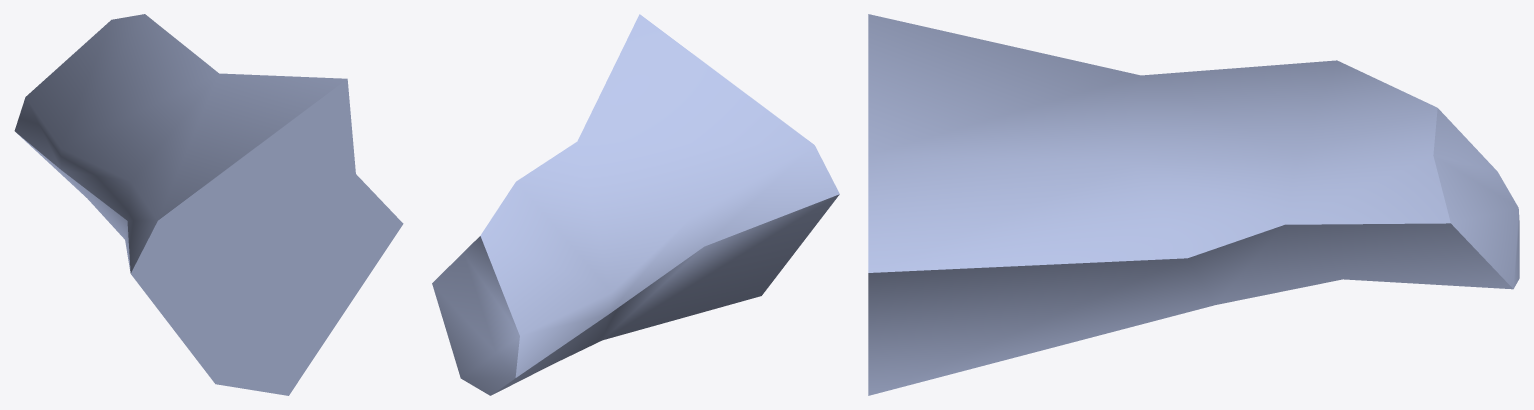
3 views of the same model, side by side, from view 1: azimuth 30°, elevation 25°; view 2: azimuth 150°, elevation 25°; view 3: azimuth 270°, elevation 25° (orthographic). The views are drawn at different scales.
Parts seen in each view (by area): view 1: Object23; view 2: Object23; view 3: Object23.
Boxes of the visible parts, x1=… form: Object23: x1=14, y1=14, x2=403, y2=395; Object23: x1=432, y1=14, x2=839, y2=395; Object23: x1=868, y1=14, x2=1519, y2=395.
Size of the model in its own units: 8992 by 9539 by 13345.
